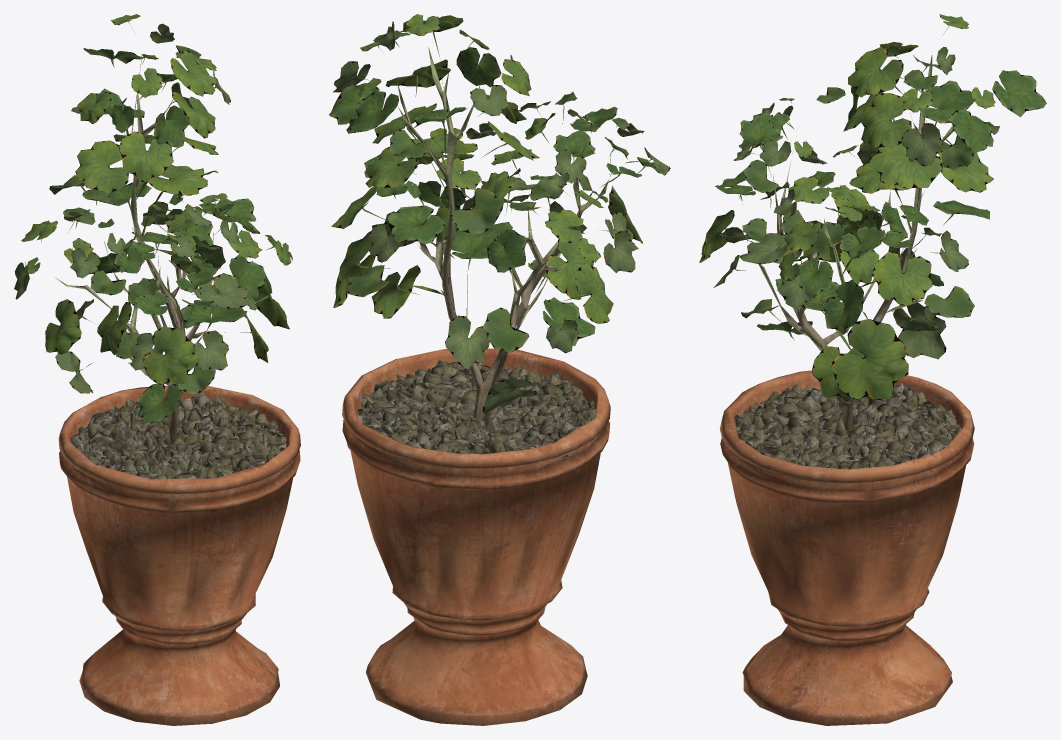
Rendered from potted_plant_01.glb.
3 renders of one model, left to right at view 1: azimuth 30°, elevation 25°; view 2: azimuth 150°, elevation 25°; view 3: azimuth 270°, elevation 25°, orthographic. The views are drawn at different scales.
Visible parts, largest first — view 1: potted_plant_01_stem, potted_plant_01_leaves; view 2: potted_plant_01_stem, potted_plant_01_leaves; view 3: potted_plant_01_stem, potted_plant_01_leaves.
Boxes of the visible parts, x1,y1,x2,y2 form: potted_plant_01_stem: (55,54,300,725); potted_plant_01_leaves: (14,14,292,423); potted_plant_01_stem: (342,47,611,725); potted_plant_01_leaves: (329,14,670,414); potted_plant_01_stem: (719,55,974,725); potted_plant_01_leaves: (699,14,1046,400).
Bounding box in the file's own units: 0.587 × 1.33 × 0.6336.
2 materials, 2 textured.
